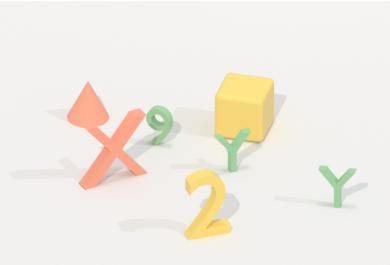0-KhoiVuong: (210, 66, 282, 143)
2: (178, 166, 234, 242)
9: (142, 102, 179, 150)
X: (76, 106, 150, 192)
Y: (314, 159, 360, 214), (212, 124, 249, 174)
